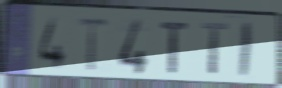4: (117, 16, 150, 77), (37, 16, 67, 72)
I: (237, 20, 254, 81)
T: (76, 16, 111, 74), (200, 20, 230, 78), (160, 21, 191, 77)
